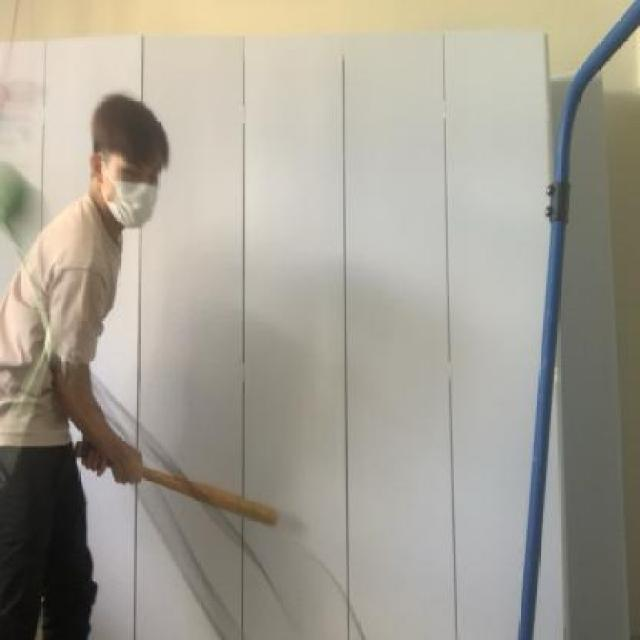baseball: (0, 136, 31, 244)
